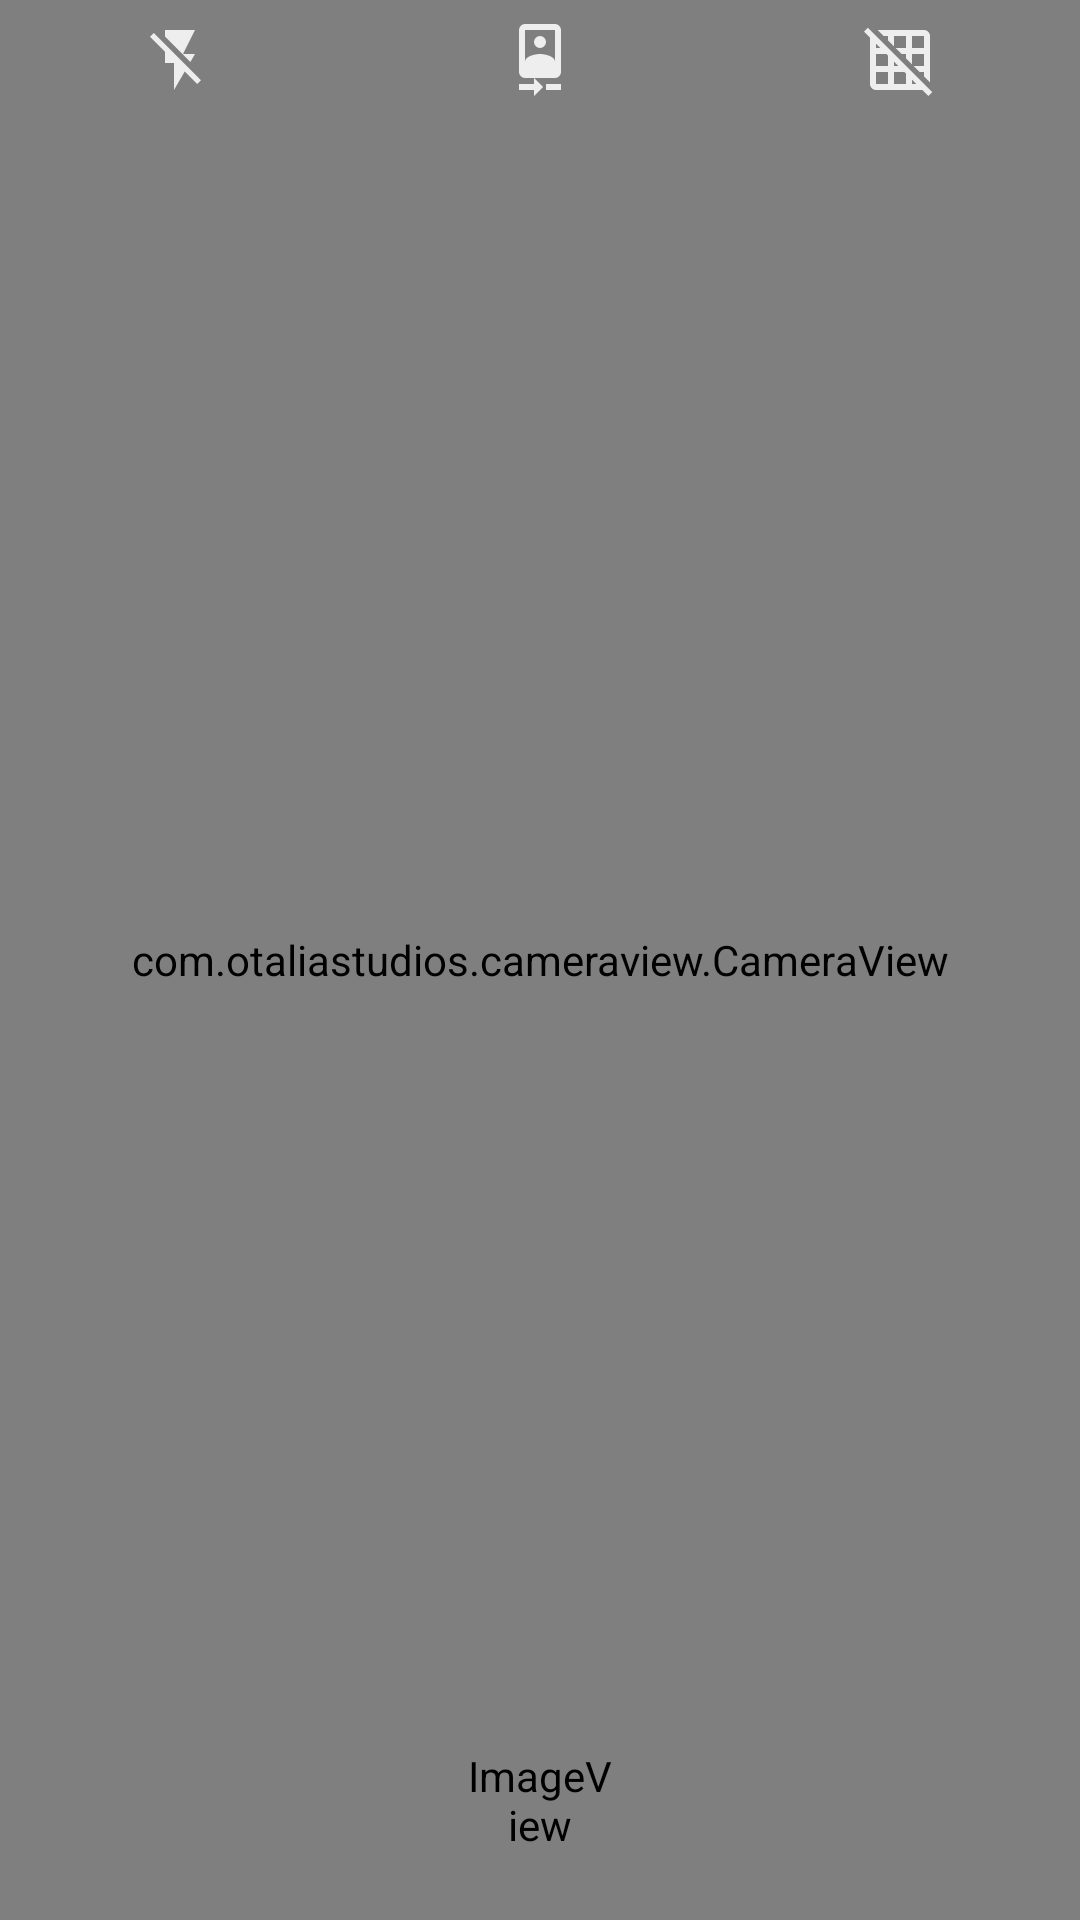

Screen size 1080px×1920px. Icon name, then its center in pixels as (x=x, y=y):
camera front: (x=540, y=60)
flash off: (x=175, y=60)
grid off: (x=898, y=62)
